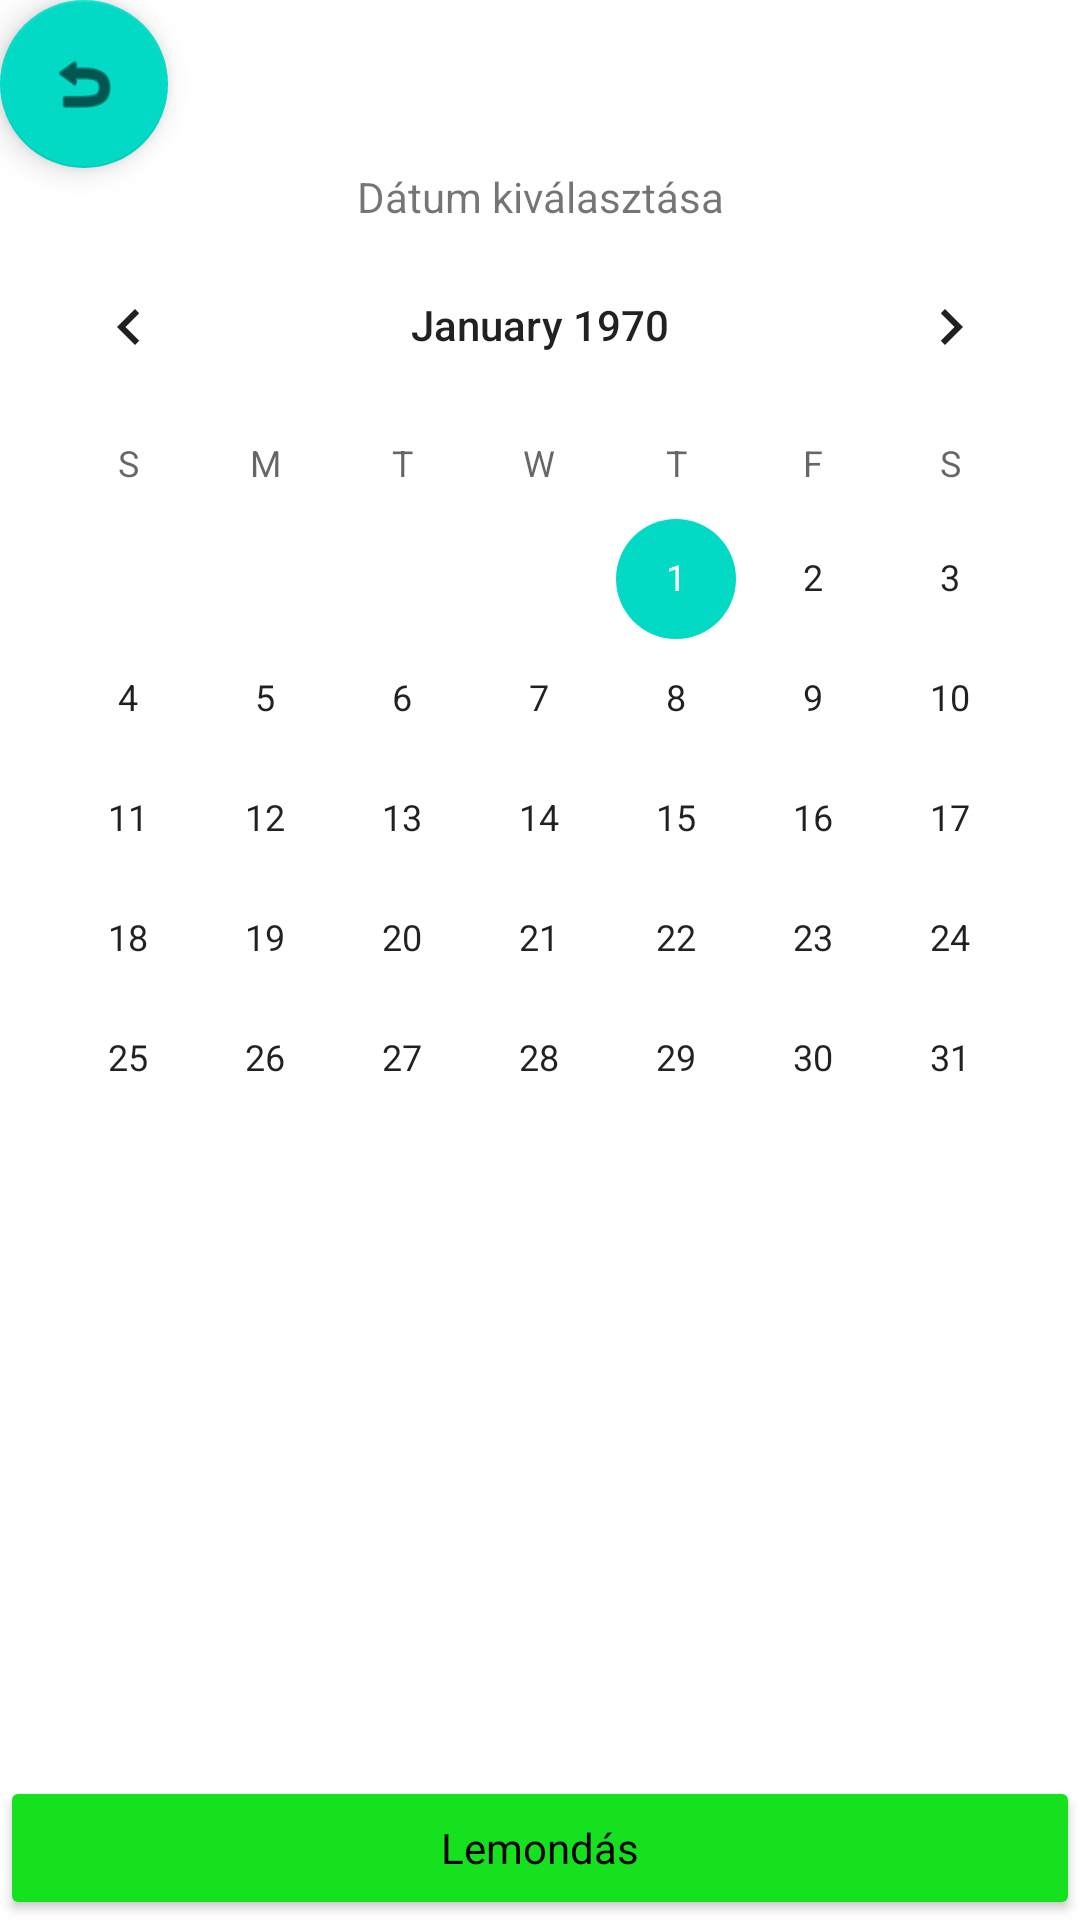

Named icons in this screenshot (1080×1920) and their bounding boxes, (x1, y1, x2, y2):
revert: (0, 0, 168, 168)
